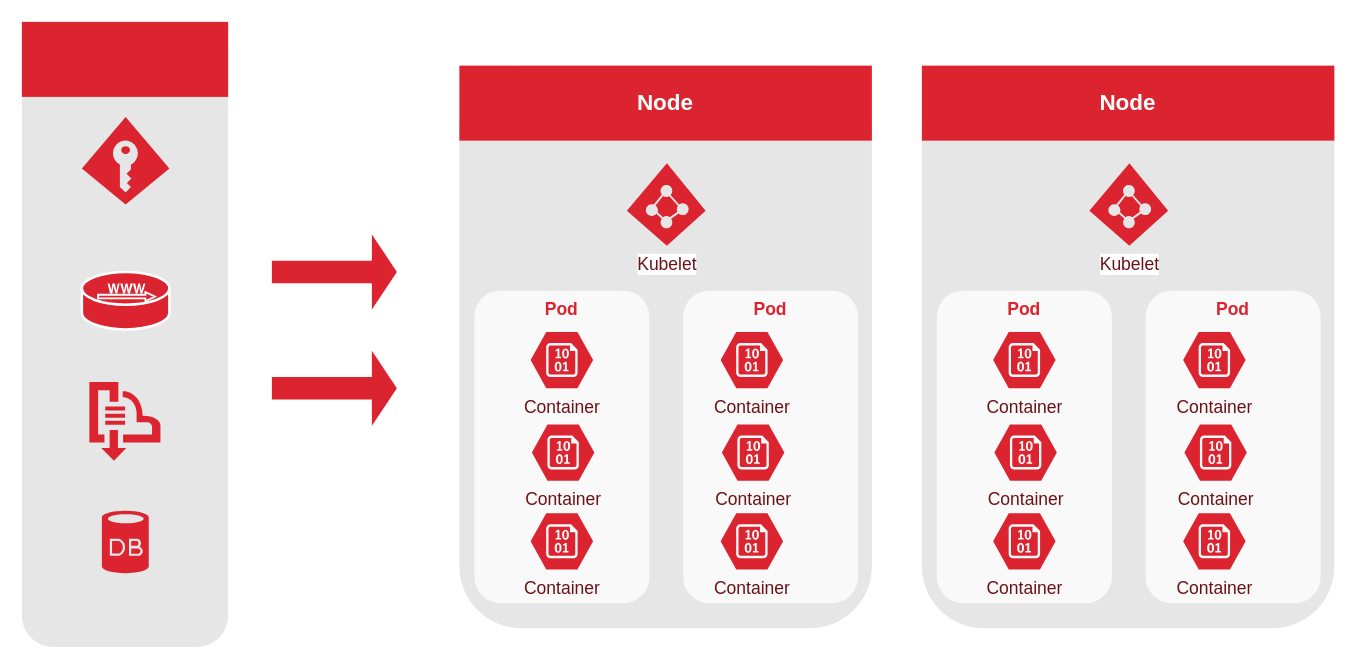
This 1355x668 diagram has some shape labels left out. The centre of each missing label's shape, as x and y in pixels:
Authentication/ Authorization: the point at 125,160
ETCD: the point at 124,541
Master: the point at 124,58
REST: the point at 125,300
Scheduler: the point at 124,420
